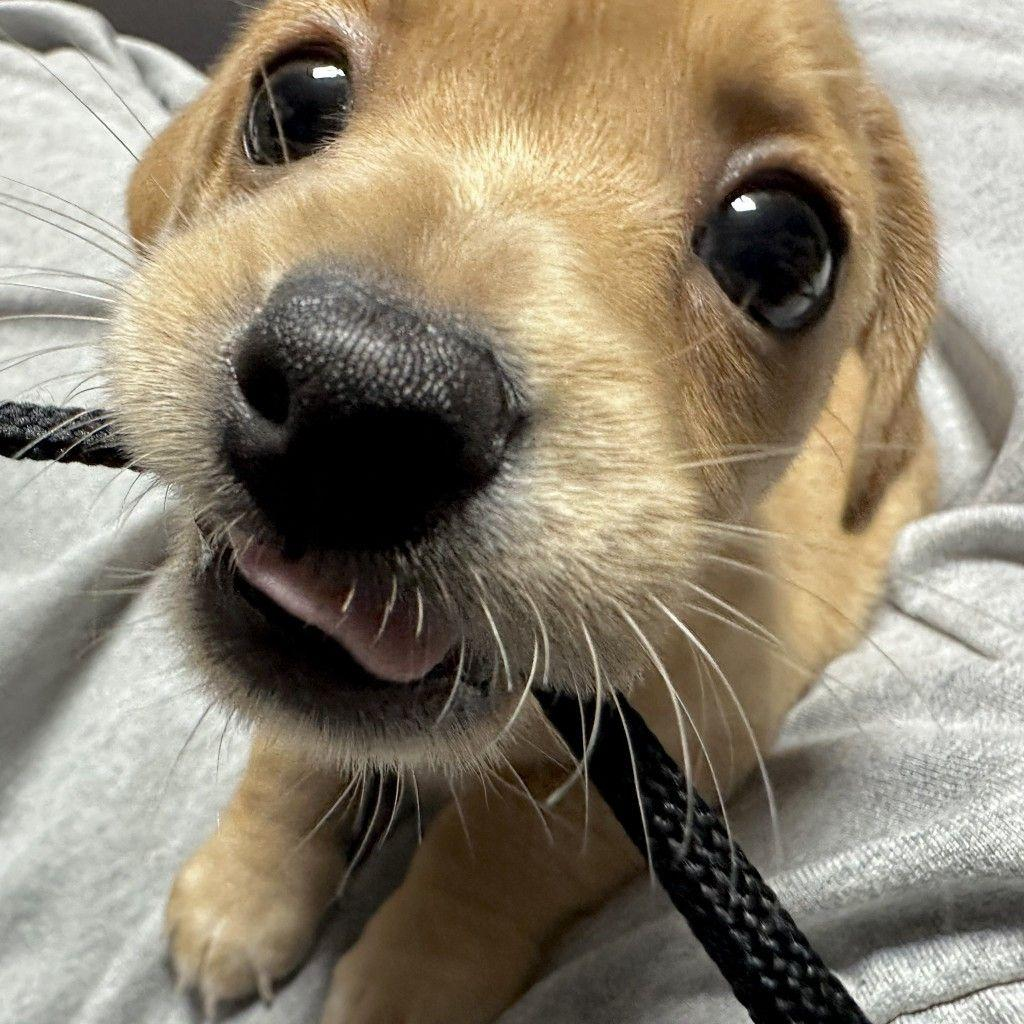puppy-dog: (86, 0, 951, 1024)
